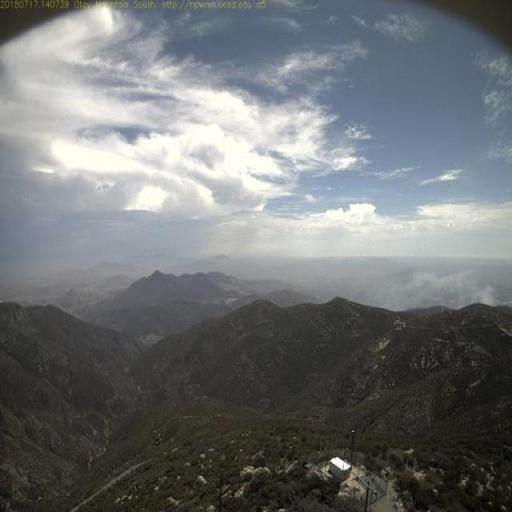smoke: (377, 256, 497, 314)
